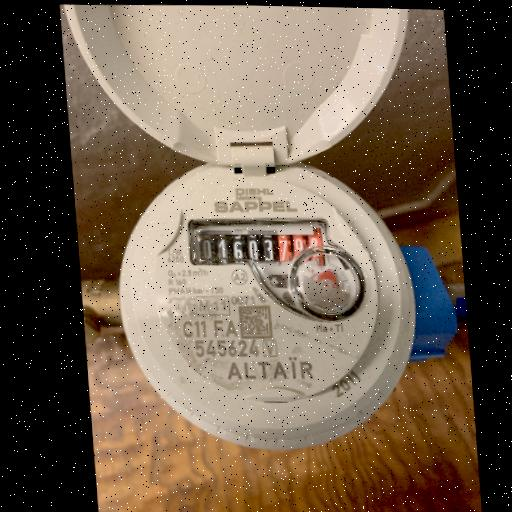0: (245, 233, 263, 263), (199, 235, 216, 262)
1: (214, 233, 231, 262)
3: (260, 234, 279, 263)
6: (229, 233, 248, 262)
7: (276, 233, 295, 262)
8: (306, 227, 326, 266)
9: (290, 234, 308, 260)
border_water_meter_number: (193, 218, 331, 271)
